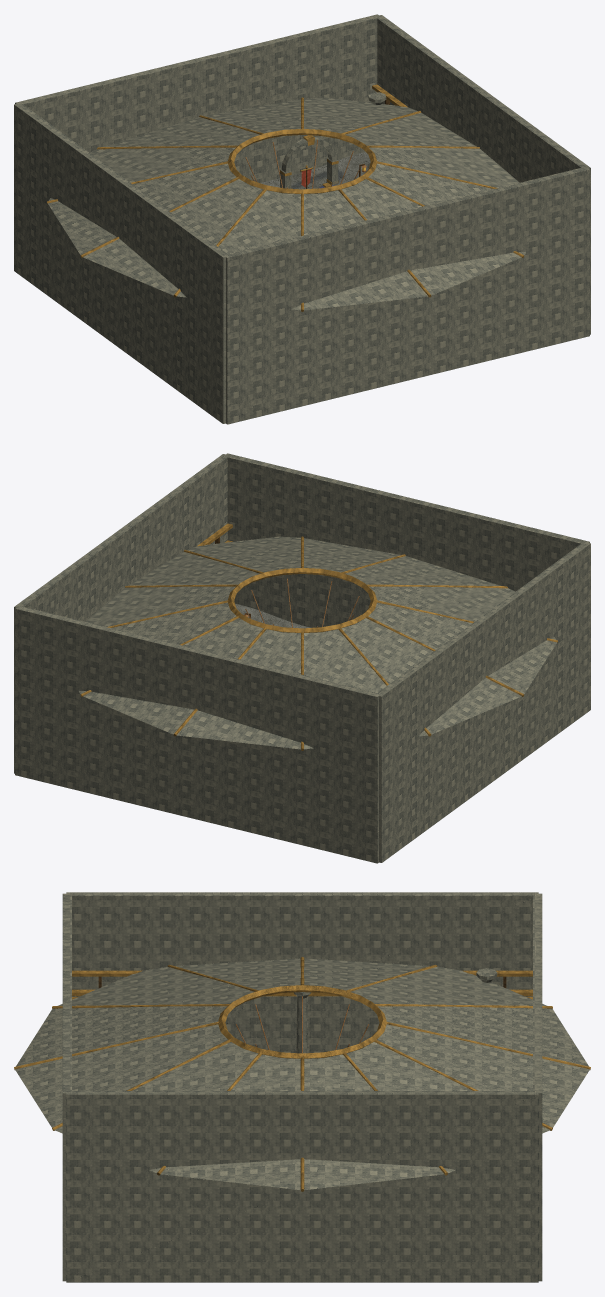
Rendered from SumpHall-b27fd2c60077.glb.
3 views of the same model, one above another, from view 1: azimuth 30°, elevation 25°; view 2: azimuth 150°, elevation 25°; view 3: azimuth 270°, elevation 25° (orthographic). The views are drawn at different scales.
Parts seen in each view (by area): view 1: C_Solids, Rim, Terrain, Set; view 2: C_Solids, Rim, Terrain; view 3: C_Solids, Rim, Set.
Part boxes in pixels (x1=…): C_Solids: x1=14, y1=14, x2=590, y2=424; Rim: x1=47, y1=84, x2=526, y2=311; Terrain: x1=260, y1=152, x2=370, y2=189; Set: x1=280, y1=92, x2=386, y2=188; C_Solids: x1=14, y1=453, x2=590, y2=863; Rim: x1=78, y1=523, x2=557, y2=750; Terrain: x1=235, y1=603, x2=311, y2=628; C_Solids: x1=62, y1=892, x2=542, y2=1282; Rim: x1=14, y1=957, x2=590, y2=1191; Set: x1=293, y1=968, x2=497, y2=1053.
Size of the model in its own units: 50.08 by 18 by 50.08.
Materials: 14 (14 with a texture image).
